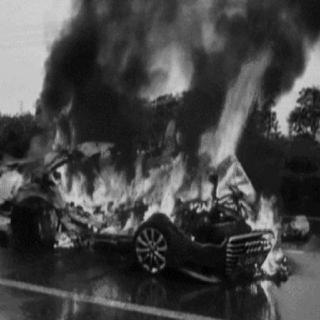Fire: (46, 50, 290, 288)
